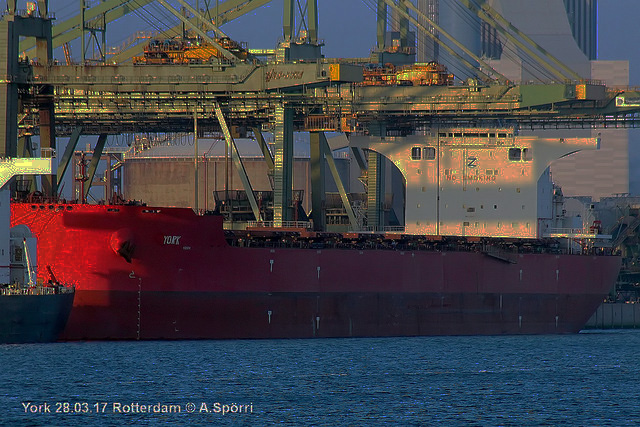bulk carrier: (20, 99, 627, 345)
